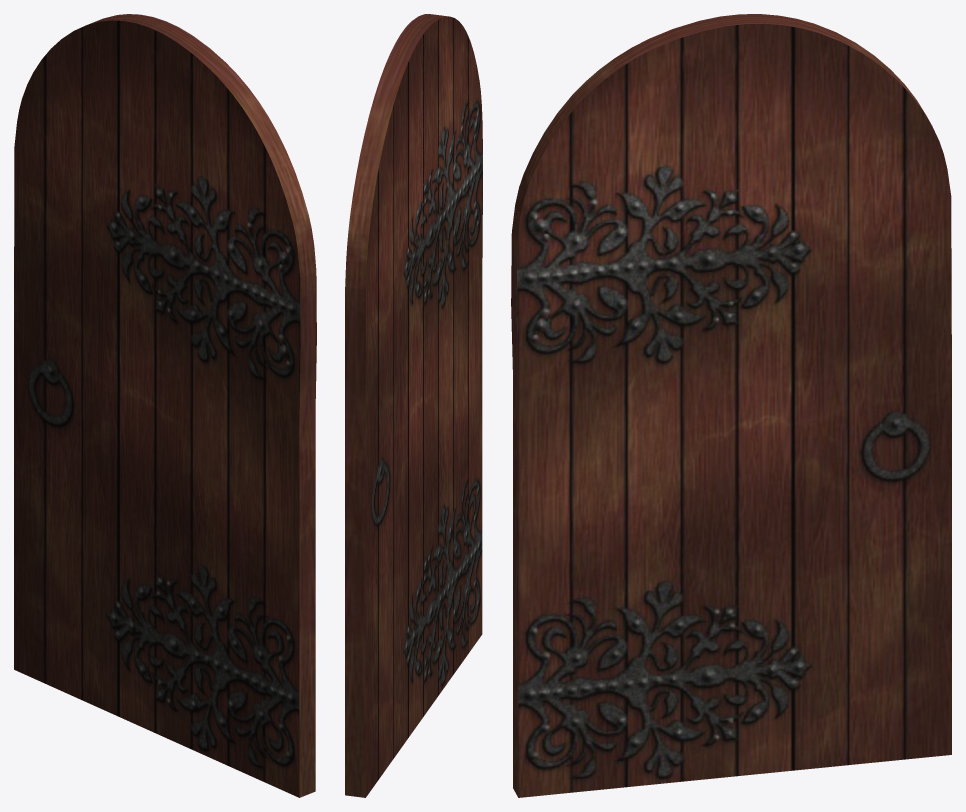
File: door 23.obj
3 views of the same model, side by side, from view 1: azimuth 30°, elevation 25°; view 2: azimuth 150°, elevation 25°; view 3: azimuth 270°, elevation 25° (orthographic). The views are drawn at different scales.
Visible parts, largest first — view 1: door_10:Mesh; view 2: door_10:Mesh; view 3: door_10:Mesh.
Part boxes in pixels (left/top/right/bottom): door_10:Mesh: left=14, top=14, right=316, bottom=797; door_10:Mesh: left=345, top=14, right=482, bottom=797; door_10:Mesh: left=511, top=14, right=951, bottom=797.
Bounding box in the file's own units: 18.16 × 120 × 63.72.
Materials: 1 (1 with a texture image).
